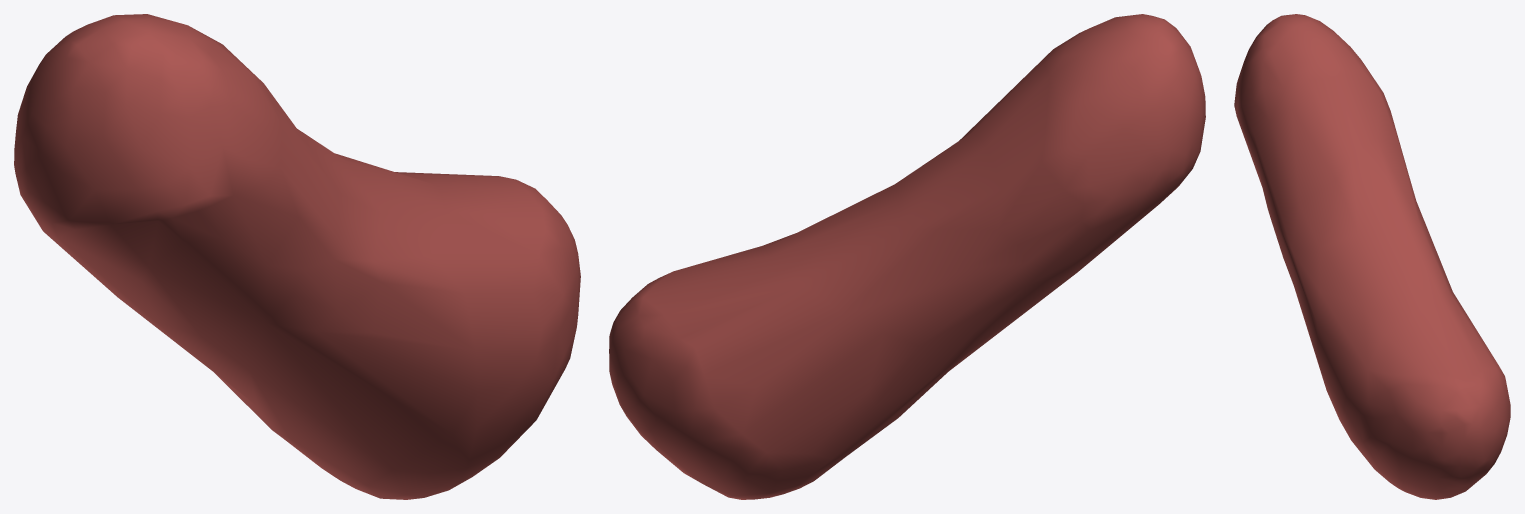
The model's file is FMA73463.glb.
The picture shows the model from 3 angles, left to right: view 1: azimuth 30°, elevation 25°; view 2: azimuth 150°, elevation 25°; view 3: azimuth 270°, elevation 25°; orthographic projection. The views are drawn at different scales.
Parts seen in each view (by area): view 1: FMA73463; view 2: FMA73463; view 3: FMA73463.
Part boxes in pixels (<box>): FMA73463: <box>14,14,580,499</box>; FMA73463: <box>609,14,1205,499</box>; FMA73463: <box>1234,14,1510,499</box>.
Size of the model in its own units: 0.0112 by 0.0106 by 0.00728.
